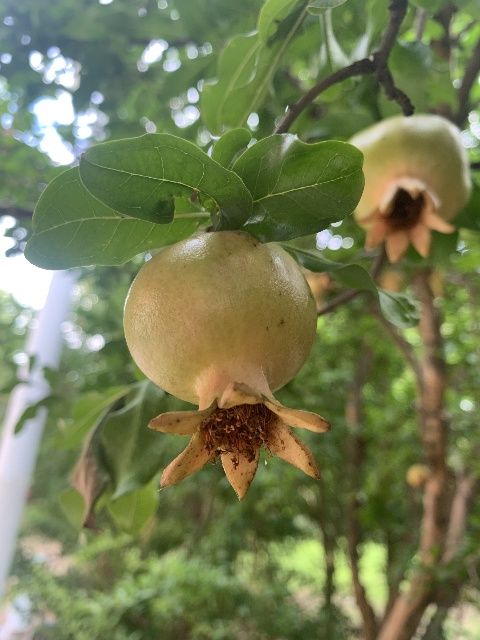mid-growth: (123, 227, 332, 503), (347, 113, 474, 265)
